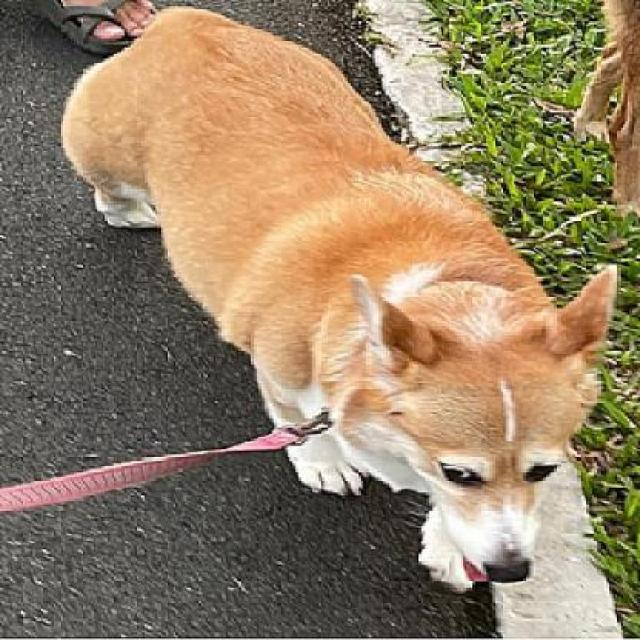Dog: (57, 3, 617, 599)
